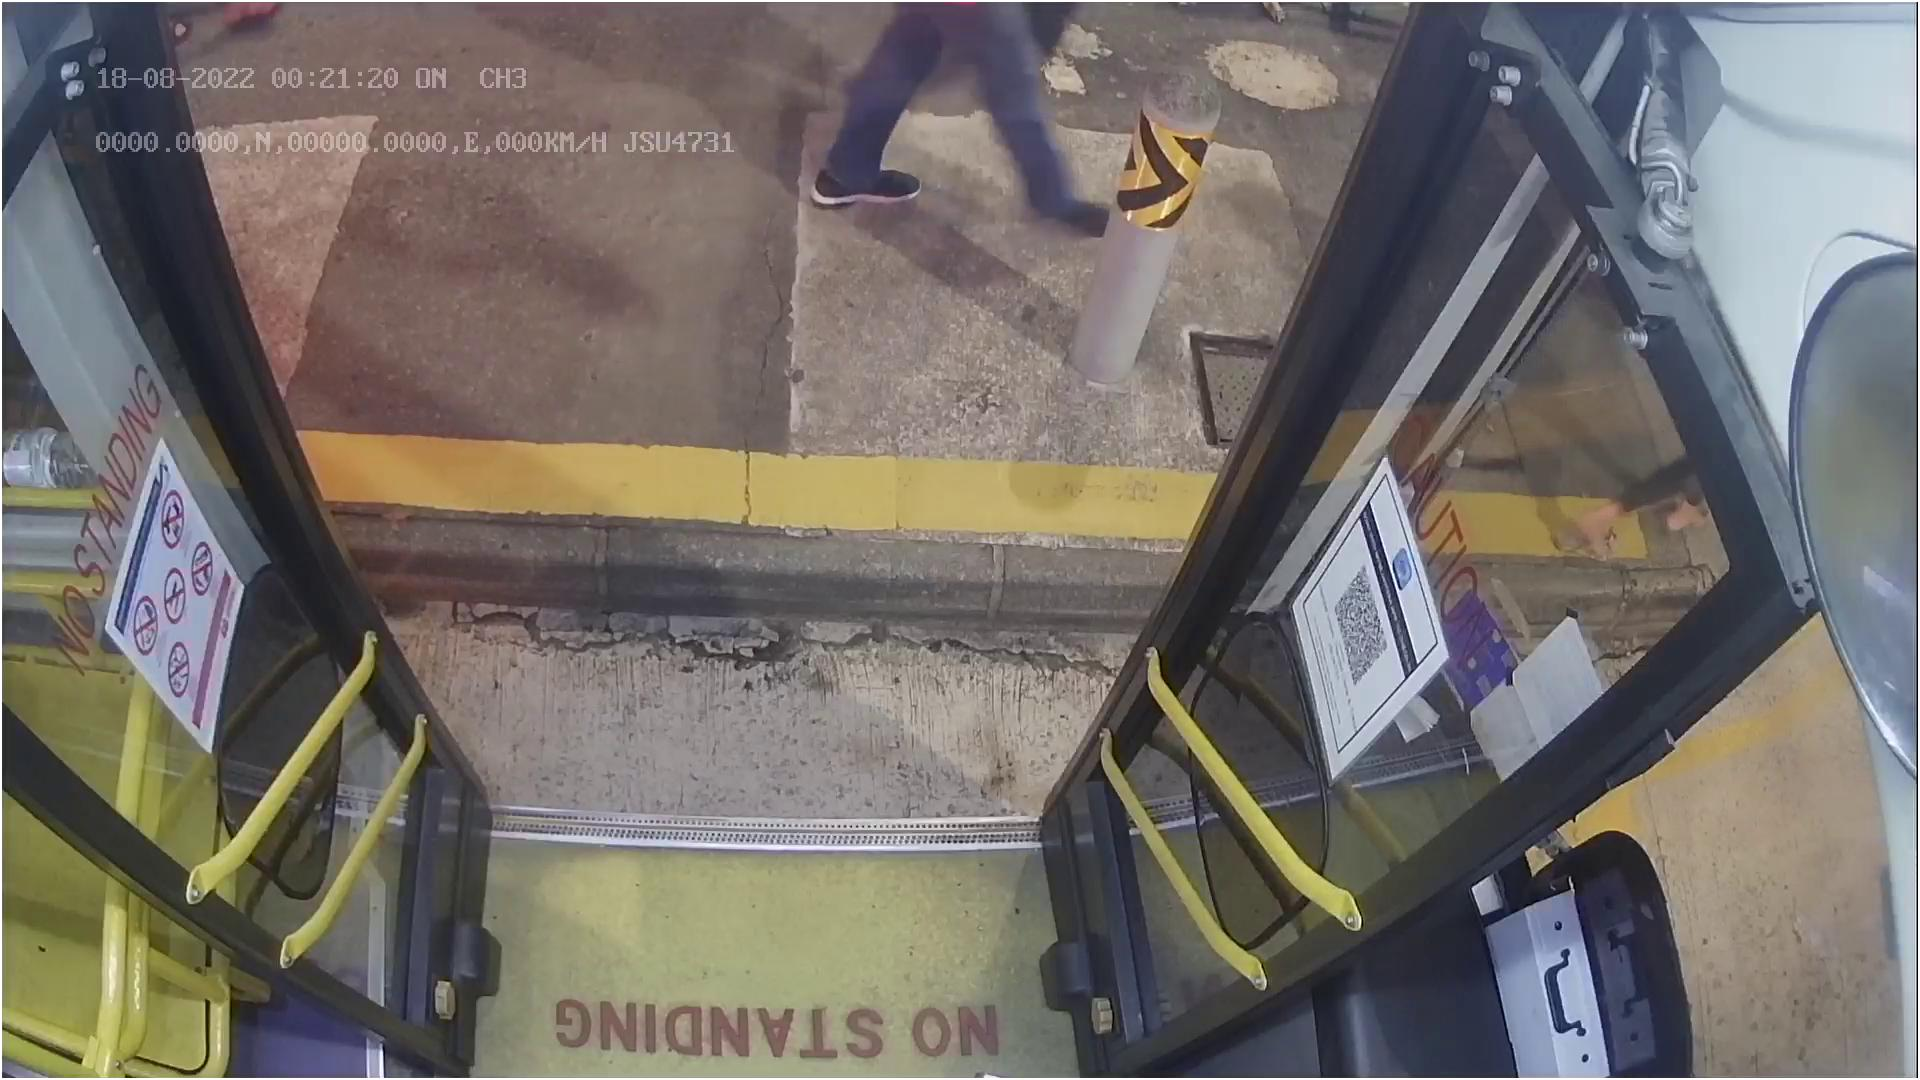open: (175, 0, 1395, 157)
